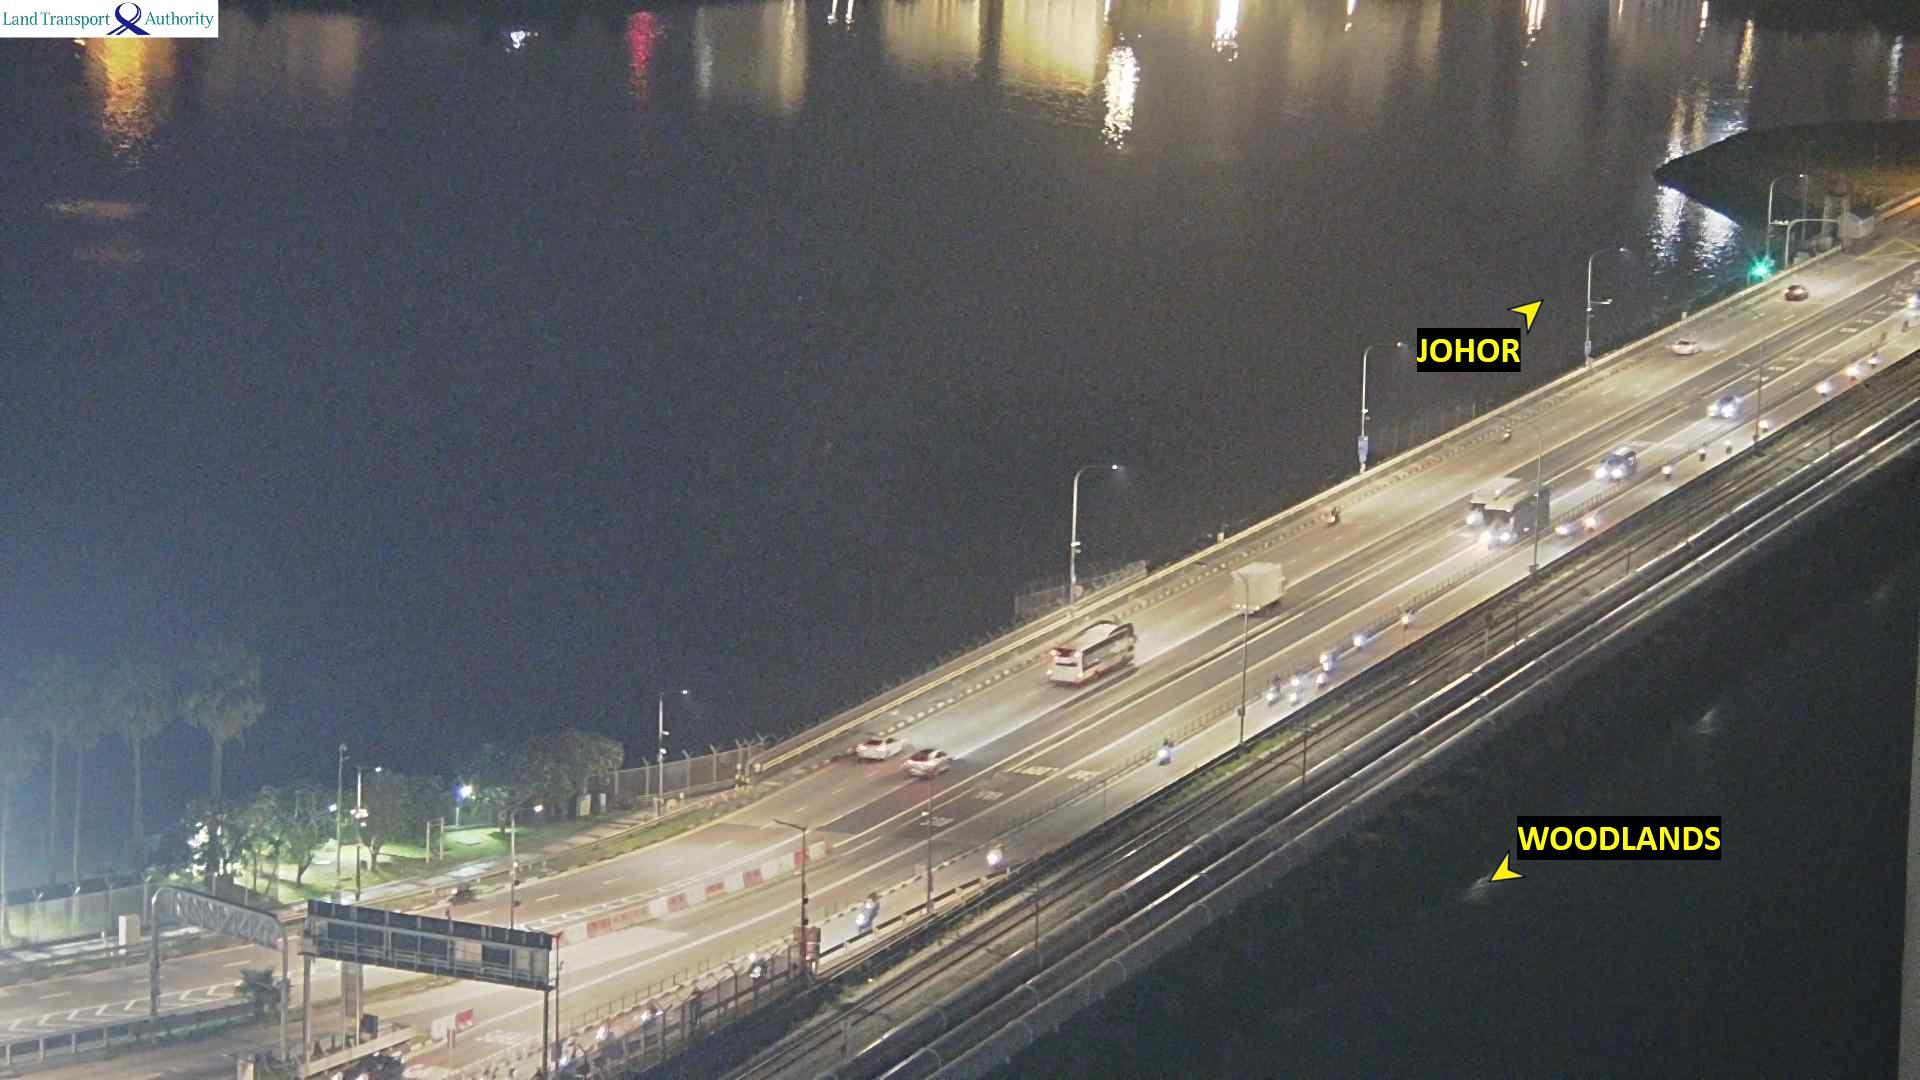vehicle-causeway-johor: (1051, 620, 1131, 681), (1235, 561, 1282, 611), (908, 746, 952, 775), (860, 736, 898, 764), (1785, 280, 1807, 298), (1677, 340, 1697, 359), (1323, 503, 1340, 524)
vehicle-causeway-singapore: (1487, 483, 1550, 540), (1471, 476, 1523, 513), (333, 1056, 402, 1080), (1601, 448, 1637, 483), (859, 895, 882, 930), (1711, 398, 1742, 418), (1156, 736, 1176, 762), (987, 840, 1005, 867), (1321, 647, 1339, 670), (1354, 629, 1369, 650), (1267, 676, 1278, 702), (1400, 609, 1415, 628), (1289, 675, 1306, 690), (1816, 381, 1831, 398), (1587, 513, 1601, 529), (1846, 364, 1857, 382), (1724, 438, 1734, 457), (1698, 443, 1707, 464), (1868, 353, 1879, 368), (1760, 420, 1769, 435), (1288, 685, 1295, 703), (1664, 461, 1669, 482)
